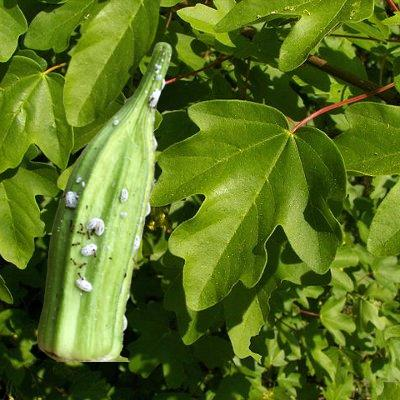okra: (37, 42, 171, 360)
